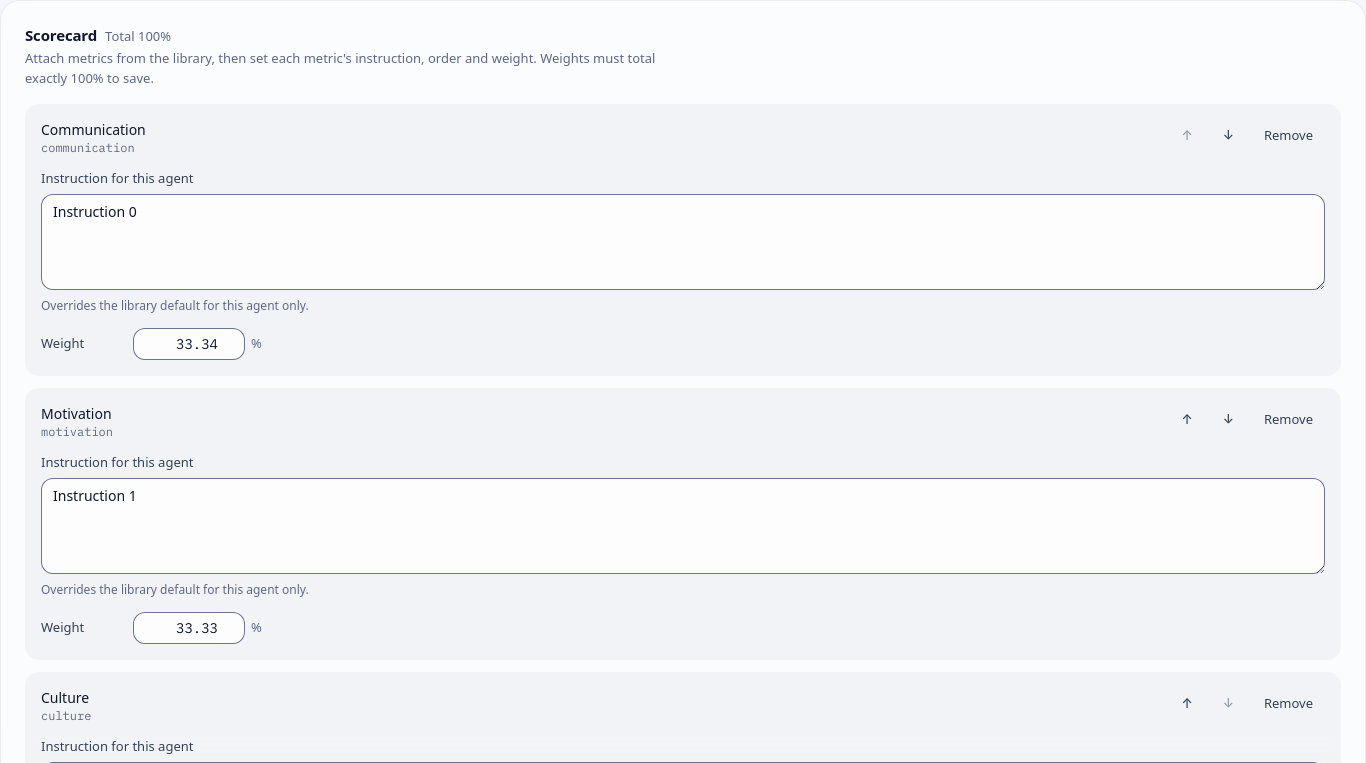
RoleScorecardEditor › states how far SHORT of 100% it is
This screenshot has width=1366, height=763.
Expected: the text "Communication" is shown, [41, 120, 146, 140]
Replace the text in the number field named "Weight for Communication" with "10" at (189, 344), box [133, 328, 245, 360]
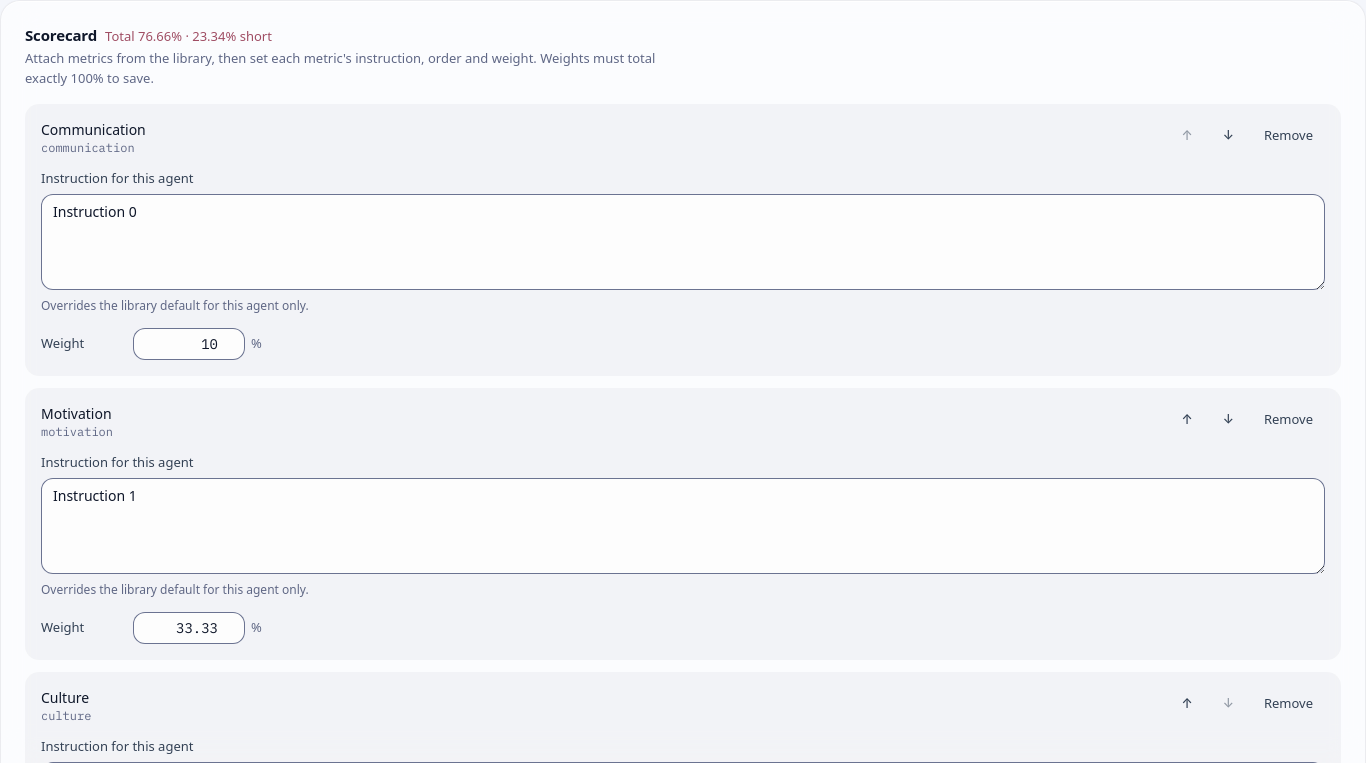
Result: the message "Total 76.66% · 23.34% short" is shown at [105, 27, 272, 45]
